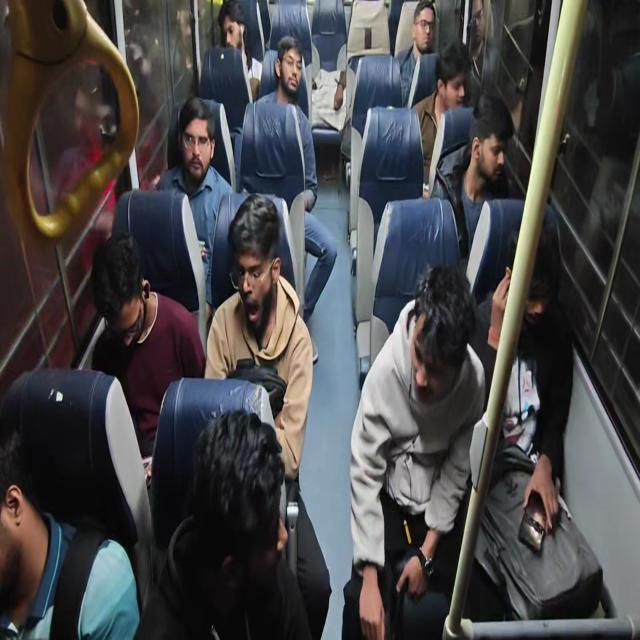person: (203, 192, 332, 637), (467, 212, 603, 620), (341, 262, 486, 638), (134, 408, 312, 638), (0, 425, 141, 639), (90, 229, 206, 485), (255, 35, 337, 324), (157, 94, 234, 320), (430, 92, 514, 259), (411, 38, 470, 195), (217, 0, 262, 104), (394, 0, 437, 108), (464, 0, 497, 104), (310, 68, 347, 131)
